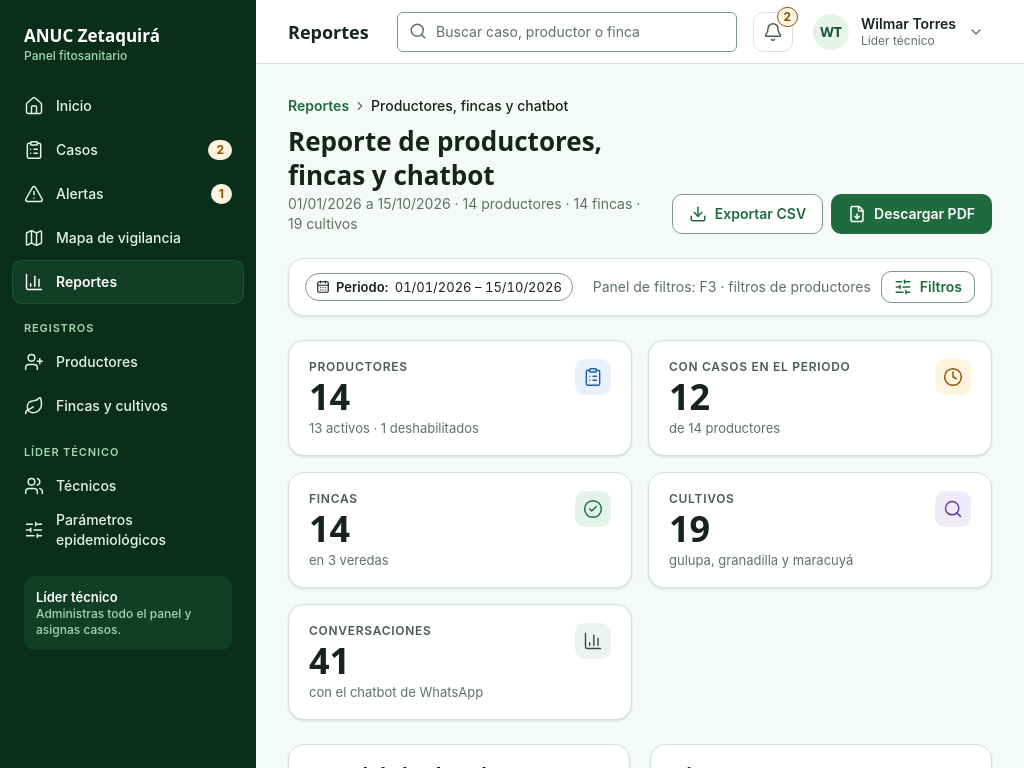
Scenario: Reportes R1-R5 (pantalla 24) › desde el panel se guarda la consulta con el reporte elegido
Expected: the text "Conversaciones" is shown, [309,623,432,638]
Click the button "Filtros".
click(928, 287)  # box [881,271,975,303]
(page scrolled)
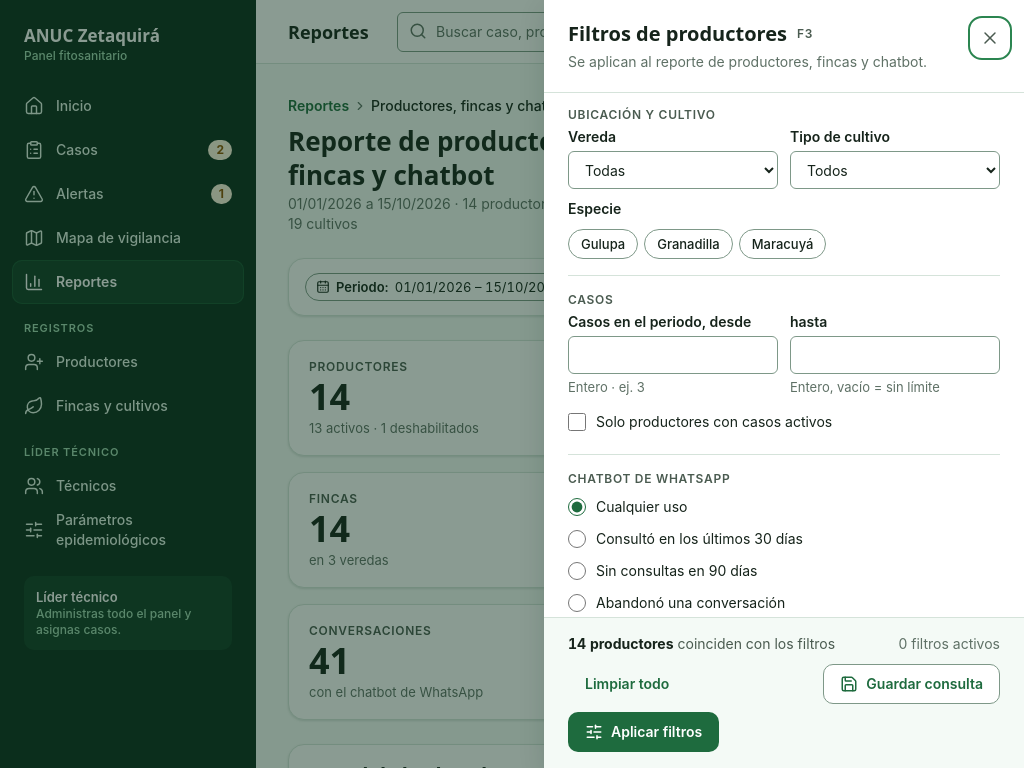
Type "2" into the field labelled "Casos en el periodo, desde".
click(673, 355); type("2")  # box [568,336,778,374]
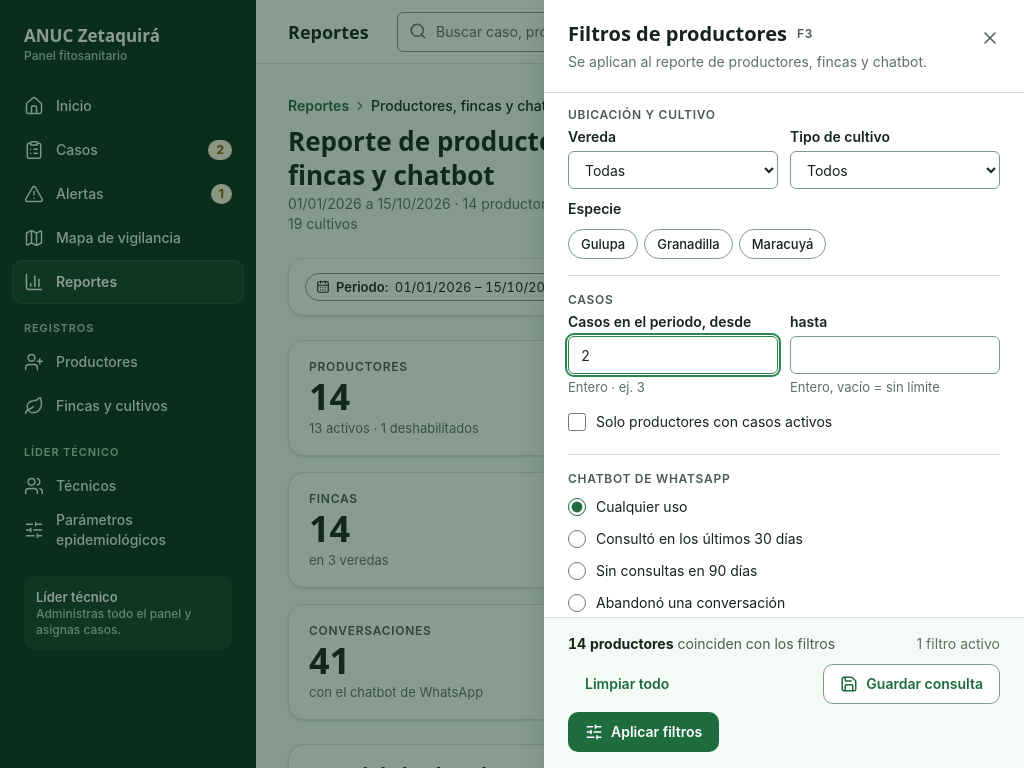
Click the button "Guardar consulta".
click(912, 684)  # box [823,664,1000,704]
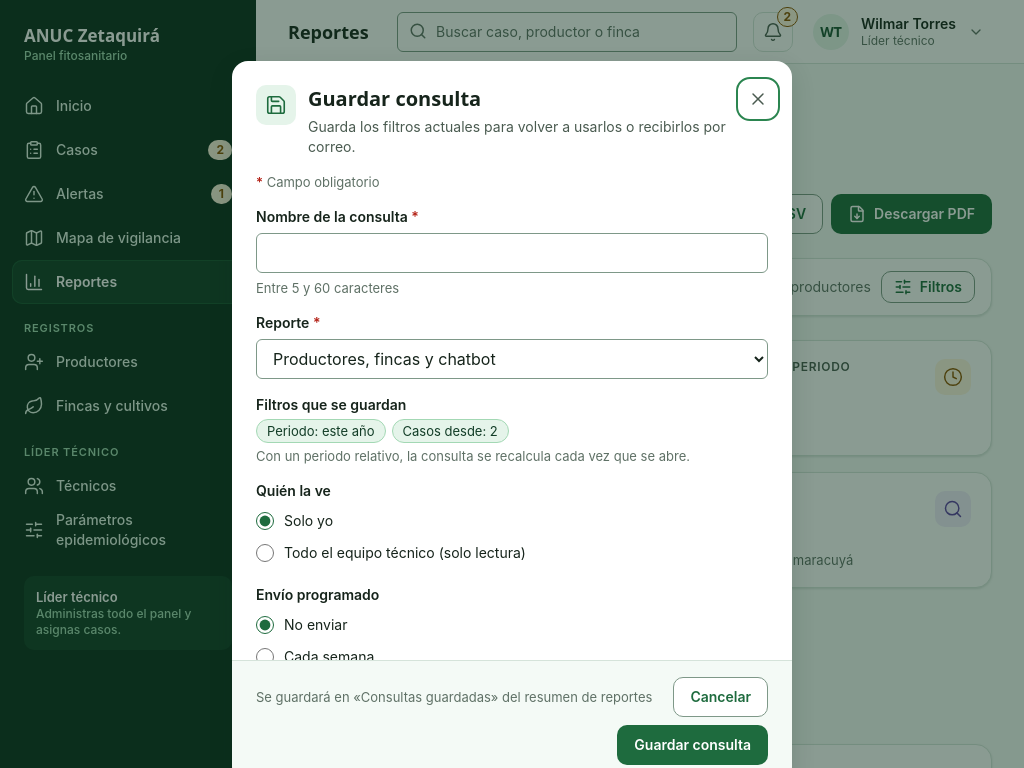
Result: the dropdown labelled "Reporte *" shows "Productores, fincas y chatbot" at [256,339,768,379]
Type "Productores con 2 casos" into the field labelled "Nombre de la consulta *".
click(512, 253); type("Productores con 2 casos")  # box [256,233,768,273]
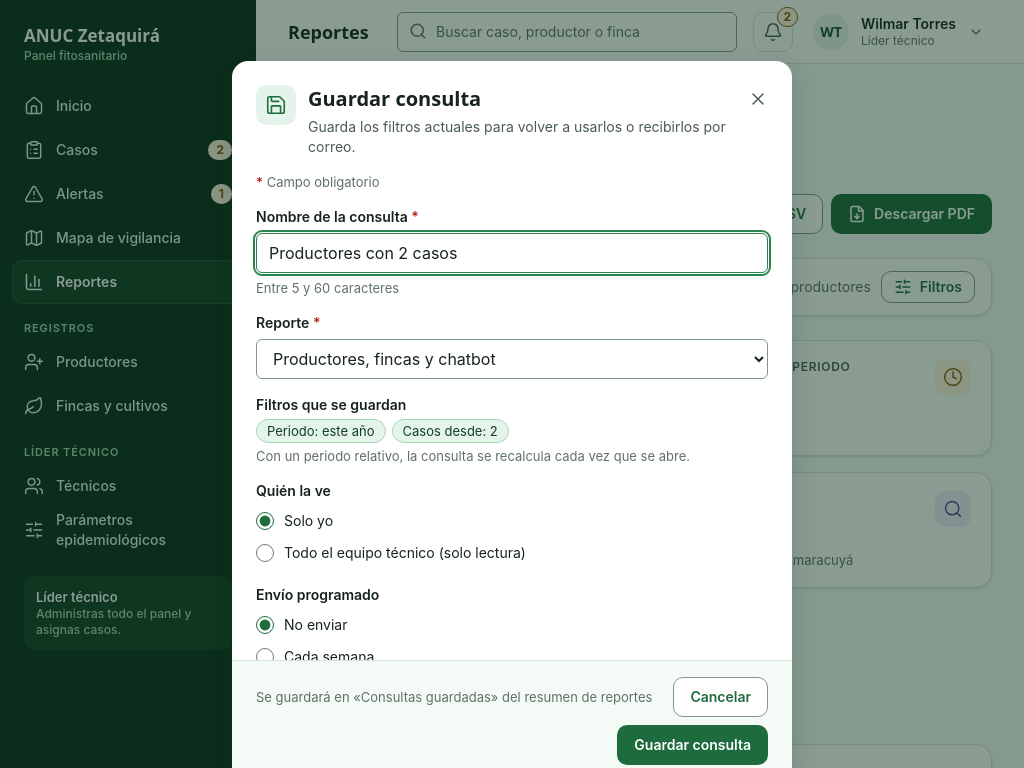
Click the button "Guardar consulta".
click(693, 745)  # box [617,725,768,765]
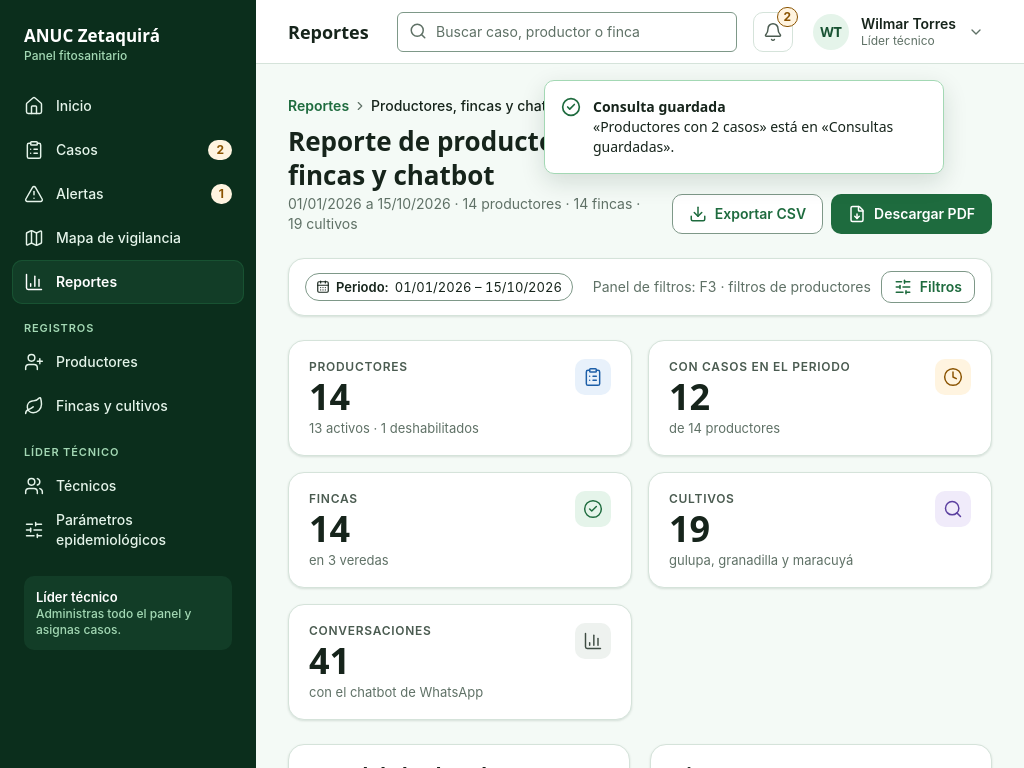
Result: the text "Consulta guardada" is shown at [593,97,726,116]
